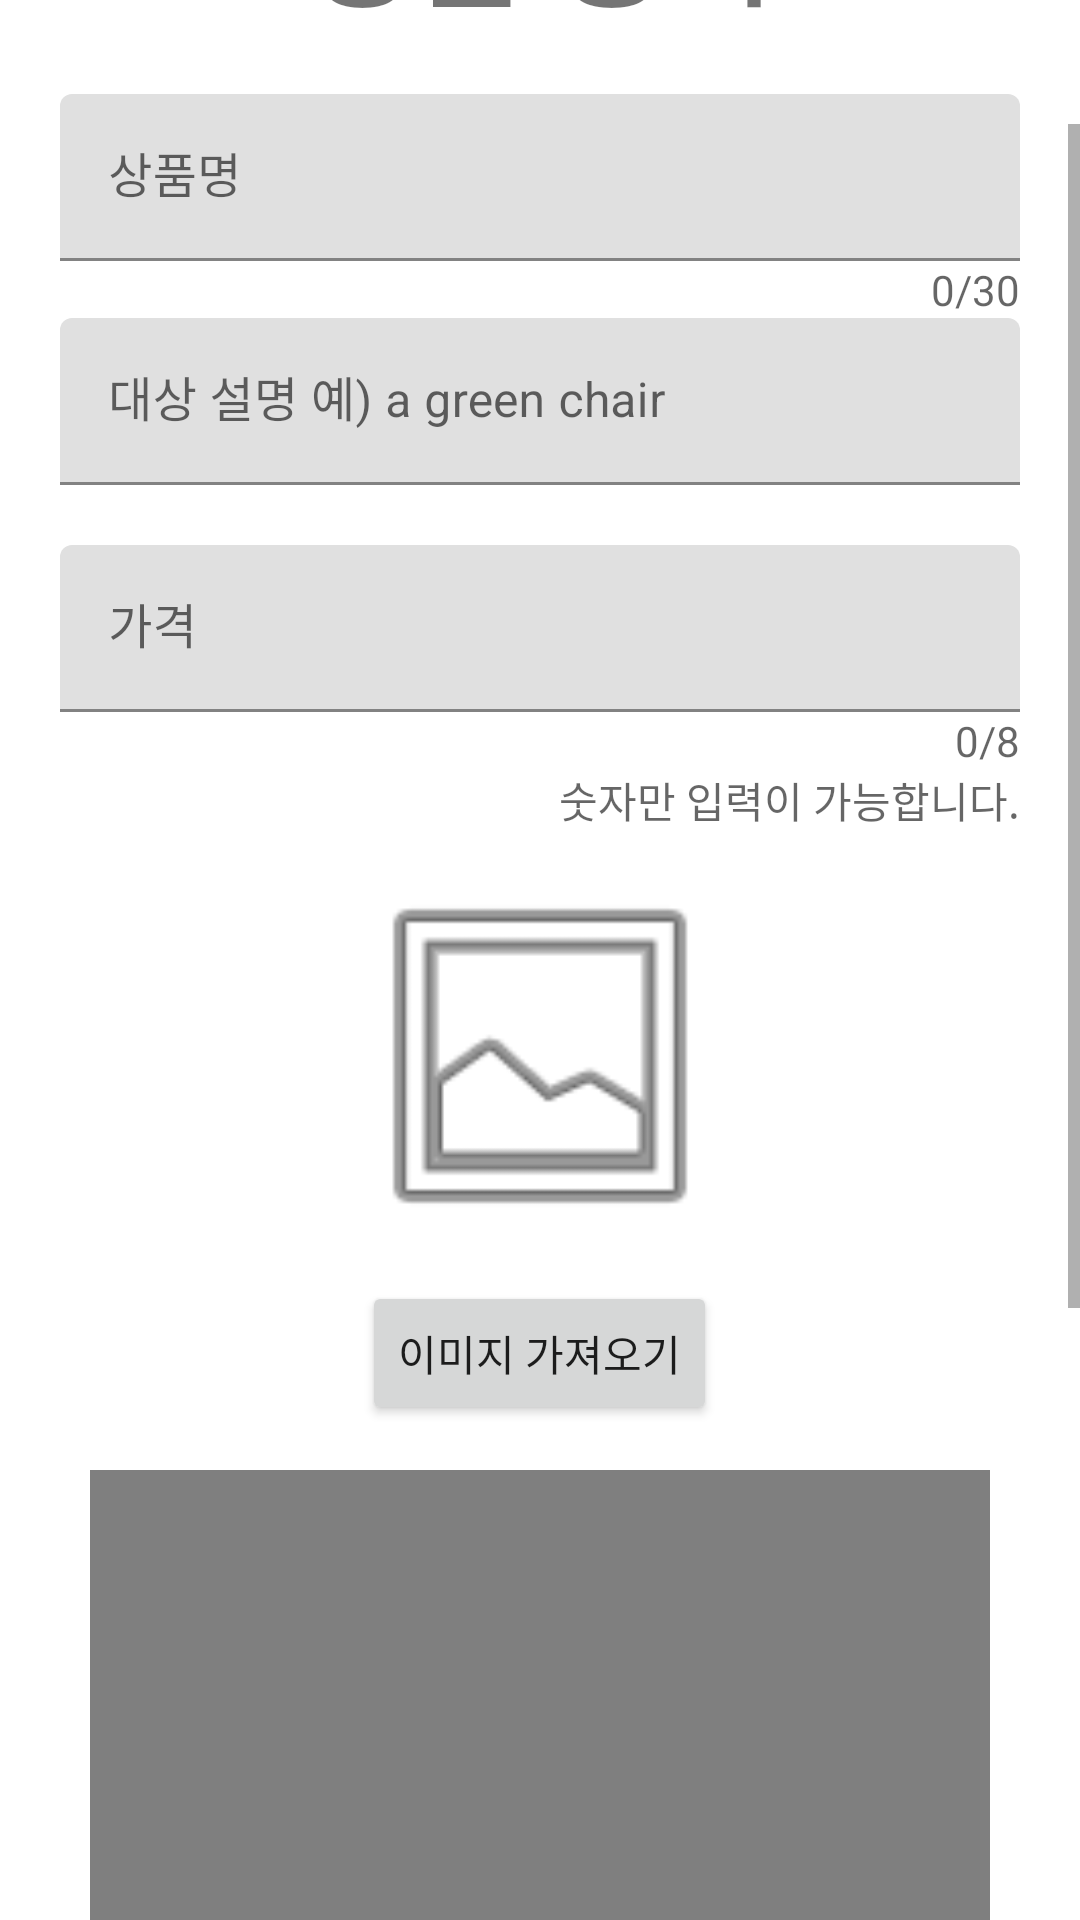

Icons on this 1080 × 1920 Android screen, each with the point to tap as [x,y]:
gallery: [540,1056]
